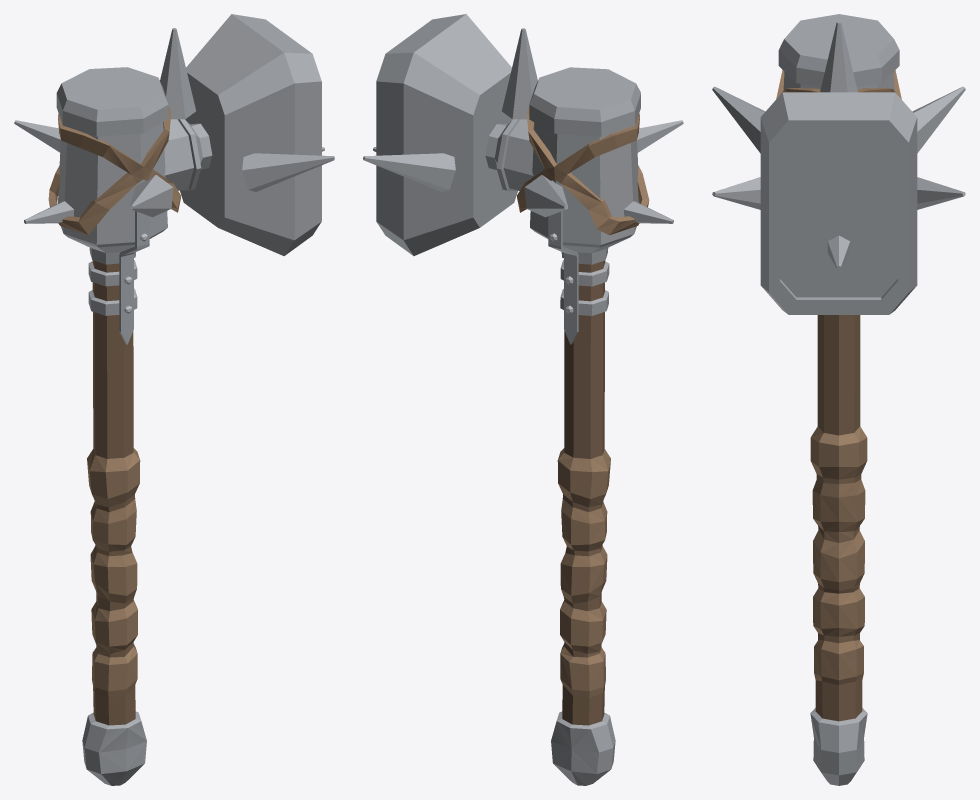
File: maza_estrellada.glb
3 views of the same model, side by side, from view 1: azimuth 30°, elevation 25°; view 2: azimuth 150°, elevation 25°; view 3: azimuth 270°, elevation 25° (orthographic). The views are drawn at different scales.
Parts seen in each view (by area): view 1: maza_estrellada; view 2: maza_estrellada; view 3: maza_estrellada.
Boxes of the visible parts, <box> form: maza_estrellada: <box>14,14,334,785</box>; maza_estrellada: <box>363,14,683,785</box>; maza_estrellada: <box>712,14,965,785</box>.
Bounding box in the file's own units: 1.9 × 4.48 × 1.3.
